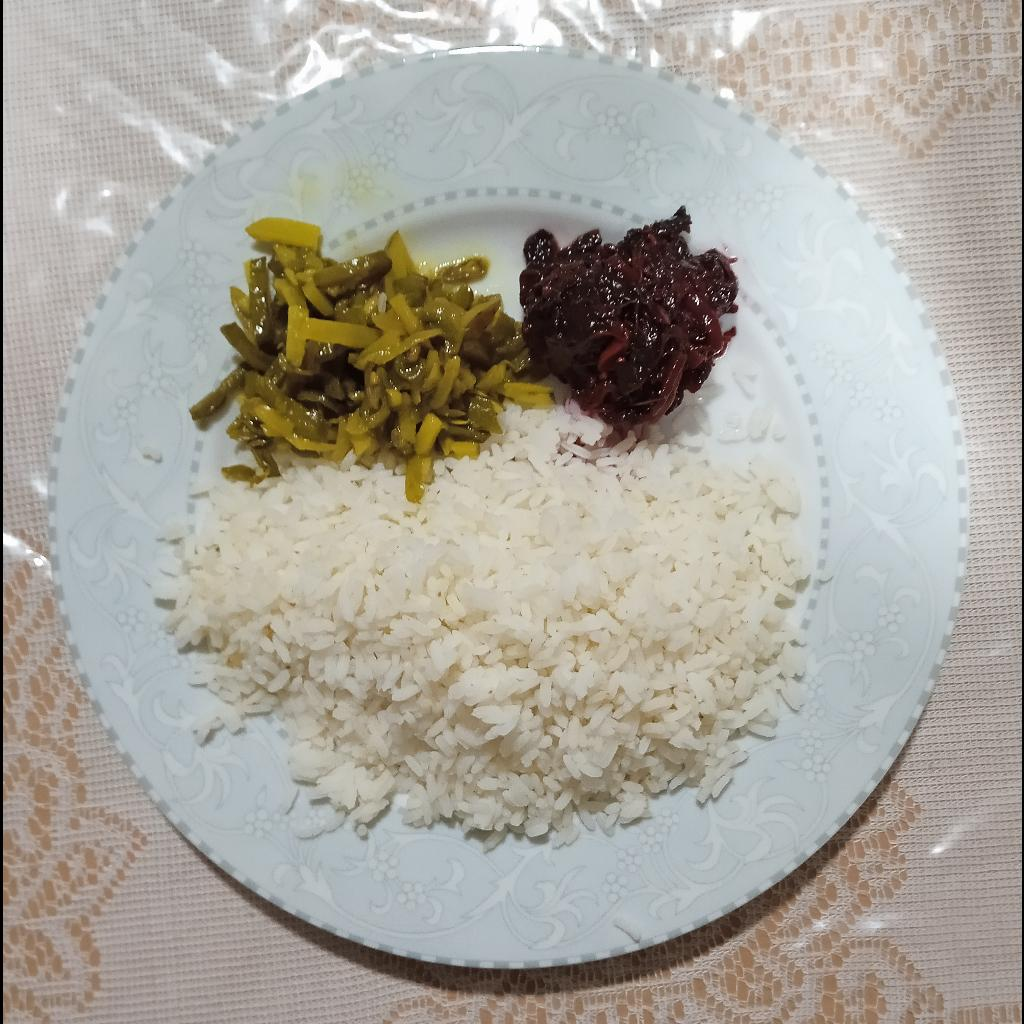rice: (160, 412, 816, 852)
shak: (512, 204, 741, 423)
vegetable: (189, 217, 527, 491)
